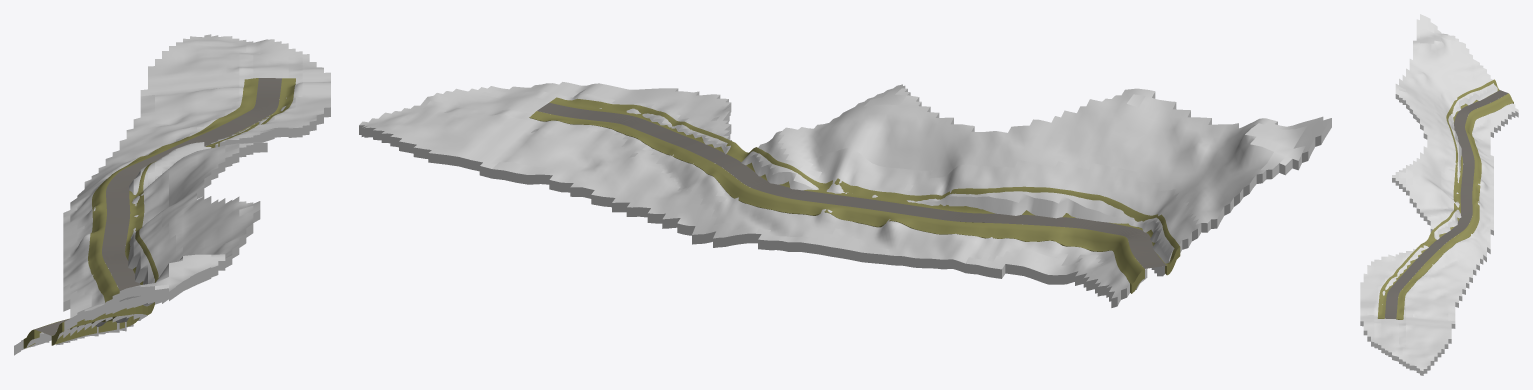
File: conz_67.glb
The picture shows the model from 3 angles, left to right: view 1: azimuth 90°, elevation 25°; view 2: azimuth 150°, elevation 25°; view 3: azimuth 270°, elevation 25°; orthographic projection. The views are drawn at different scales.
Parts seen in each view (by area): view 1: terrain67, road67, verge67R, verge67L; view 2: terrain67, verge67R, road67, verge67L; view 3: terrain67, road67, verge67R, verge67L.
Boxes of the visible parts, <box> form: terrain67: <box>14,34,330,355</box>; road67: <box>34,78,281,335</box>; verge67R: <box>23,78,258,348</box>; verge67L: <box>51,78,295,345</box>; terrain67: <box>359,82,1331,307</box>; verge67R: <box>529,111,1144,293</box>; road67: <box>537,102,1166,268</box>; verge67L: <box>549,97,1180,275</box>; terrain67: <box>1360,14,1518,375</box>; road67: <box>1384,90,1508,318</box>; verge67R: <box>1396,93,1513,319</box>; verge67L: <box>1377,79,1499,318</box>.
Bounding box in the file's own units: 318 × 78.68 × 90.
